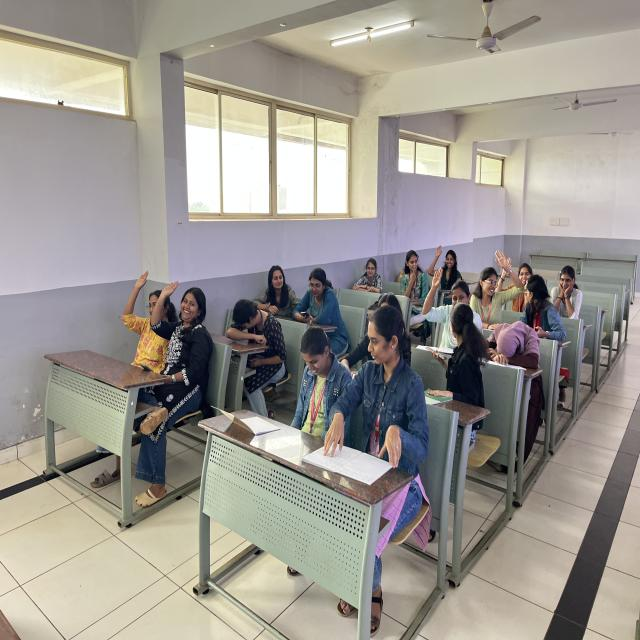Hand Rising: (156, 272, 212, 392), (123, 264, 167, 369), (473, 245, 521, 321), (430, 240, 462, 293)
Sleeping: (220, 286, 288, 382), (481, 316, 546, 382)
Using Phone: (293, 324, 346, 432), (288, 263, 344, 335)
